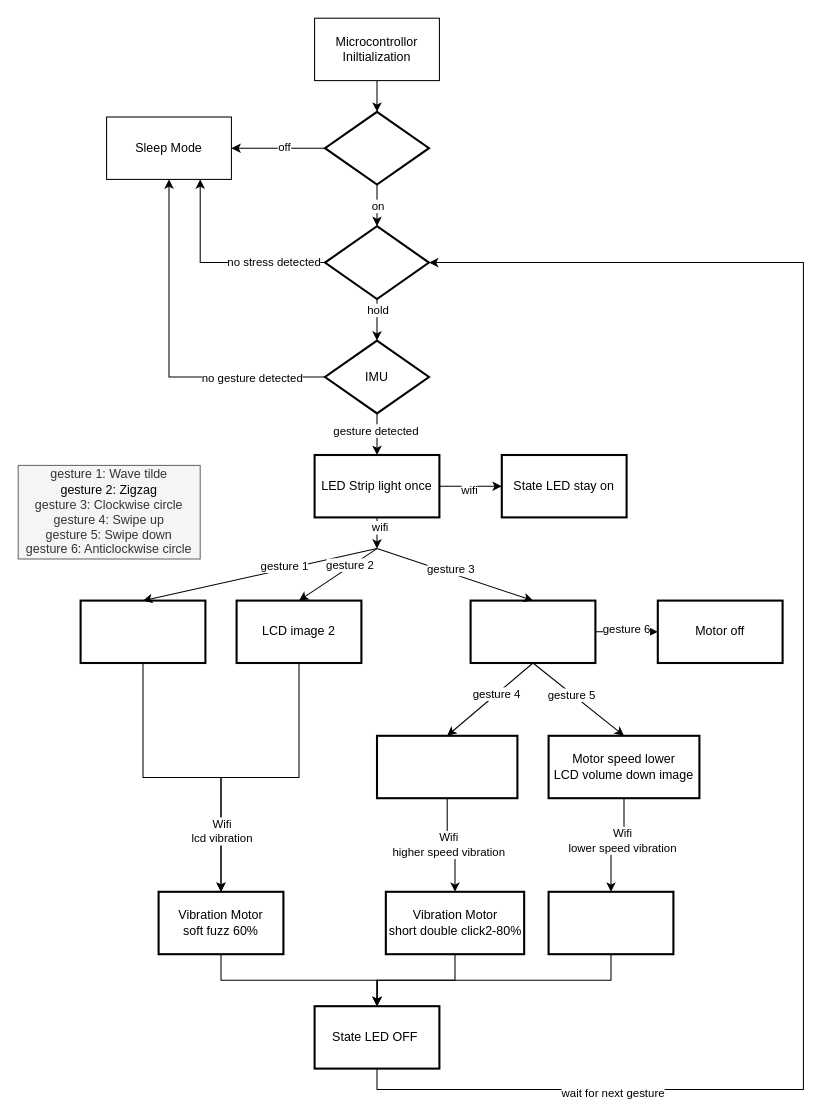
The diagram is 830 pixels wide and 1118 high, and some of its shapes have lost their labels. The centre of each missing label's shape, as x and y in pixels:
FSR: pixel 376 262
LCD image 1: pixel 142 631
Motor on: pixel 532 631
Motor speed higher LCD volumn up image: pixel 446 766
Slide switch button: pixel 376 147
Vibration Motor Medium click2-80%: pixel 610 922
